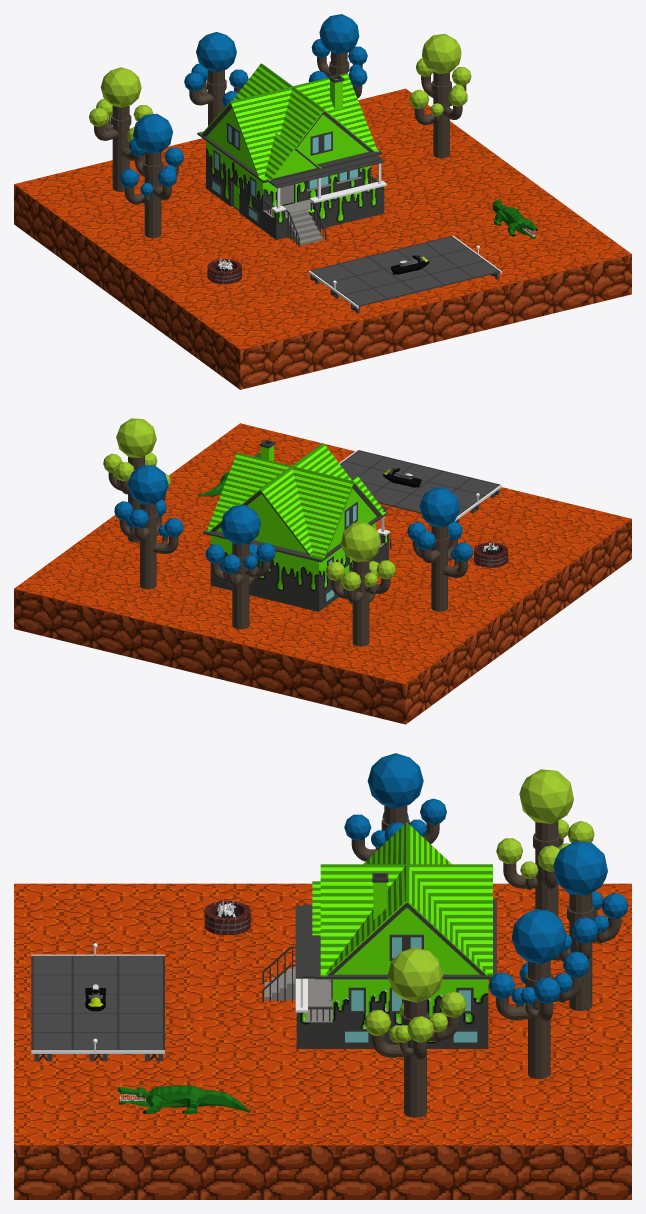
3 renders of one model, top to bottom at view 1: azimuth 30°, elevation 25°; view 2: azimuth 150°, elevation 25°; view 3: azimuth 270°, elevation 25°, orthographic. The views are drawn at different scales.
Visible parts, largest first — view 1: Cube.001, Cube.754, ANIMAL_COCODRILO, OBJRANDOM_CAMPFIRE; view 2: Cube.001, Cube.754, OBJRANDOM_CAMPFIRE, VEHICLES_WATERBIKE; view 3: Cube.001, Cube.754, ANIMAL_COCODRILO, OBJRANDOM_CAMPFIRE.
Boxes of the visible parts, box(x1,y1,x2,y2) form: Cube.001: box(14, 14, 631, 389); Cube.754: box(197, 63, 386, 246); ANIMAL_COCODRILO: box(492, 198, 537, 239); OBJRANDOM_CAMPFIRE: box(207, 257, 241, 284); Cube.001: box(14, 418, 631, 724); Cube.754: box(203, 439, 391, 611); OBJRANDOM_CAMPFIRE: box(473, 541, 508, 567); VEHICLES_WATERBIKE: box(383, 468, 421, 487); Cube.001: box(14, 753, 631, 1199); Cube.754: box(262, 823, 496, 1048); ANIMAL_COCODRILO: box(117, 1085, 250, 1114); OBJRANDOM_CAMPFIRE: box(204, 896, 250, 934).
Bounding box in the file's own units: 4000 × 1664 × 4000.
34 materials, 5 textured.
